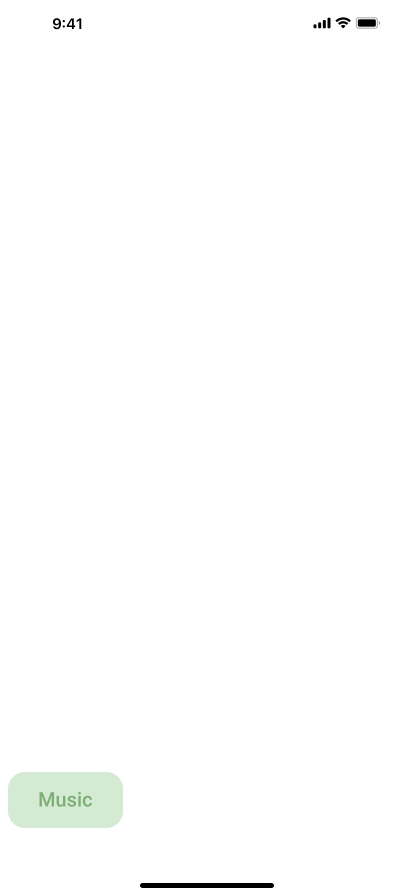Buttons: (8, 772, 131, 828)
Home Indicator: (0, 862, 414, 896)
Status Bar: (0, 0, 414, 44)
